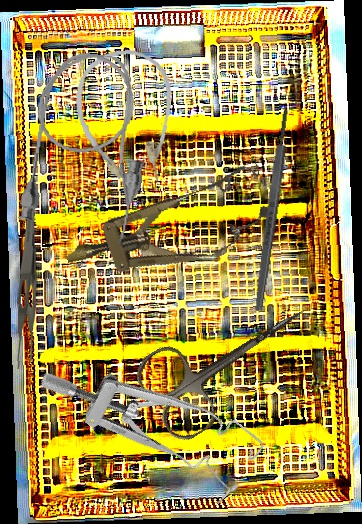Cannula: (16, 46, 159, 247), (69, 44, 184, 193)
Dressing Forceps: (9, 209, 40, 370)
Iris Scissors: (128, 272, 330, 448)
Scalpel Handle: (251, 108, 293, 312)
Speculum: (36, 310, 271, 522), (54, 157, 280, 300)
